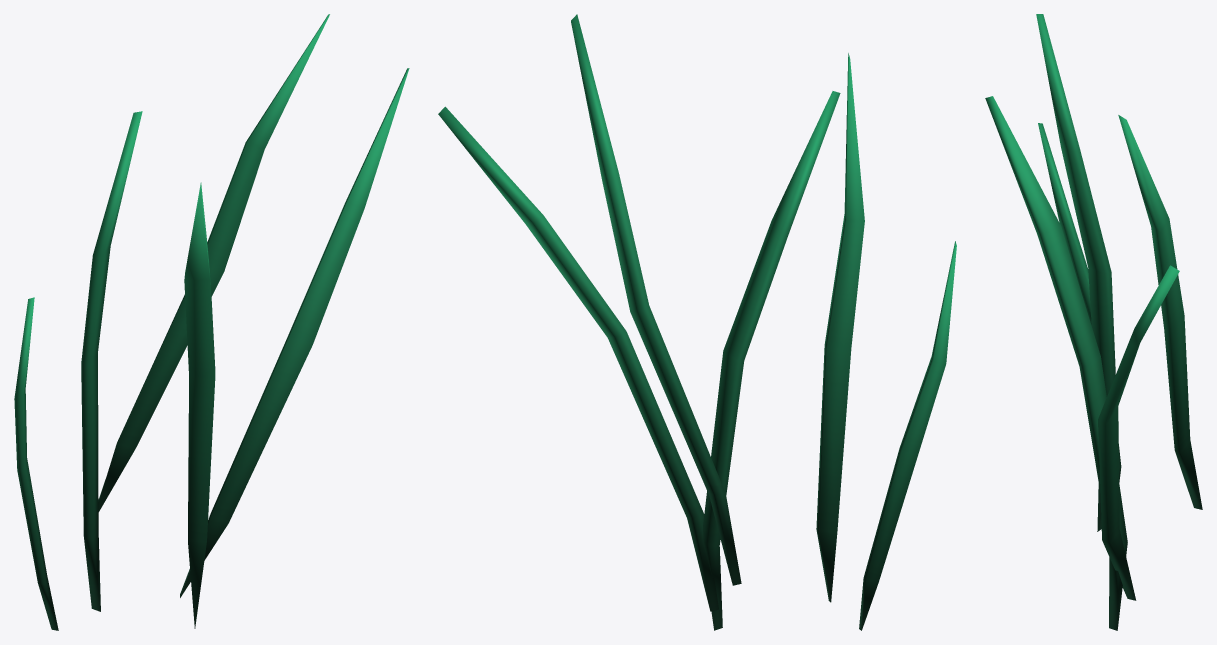
File: grass5.fbx
The picture shows the model from 3 angles, left to right: view 1: azimuth 30°, elevation 25°; view 2: azimuth 150°, elevation 25°; view 3: azimuth 270°, elevation 25°; orthographic projection.
Visible parts, largest first — view 1: grass8; view 2: grass8; view 3: grass8.
Boxes of the visible parts, x1,y1,x2,y2 form: grass8: (14,14,409,630); grass8: (438,14,956,630); grass8: (985,14,1202,630).
Bounding box in the file's own units: 94.97 × 117 × 39.62.
